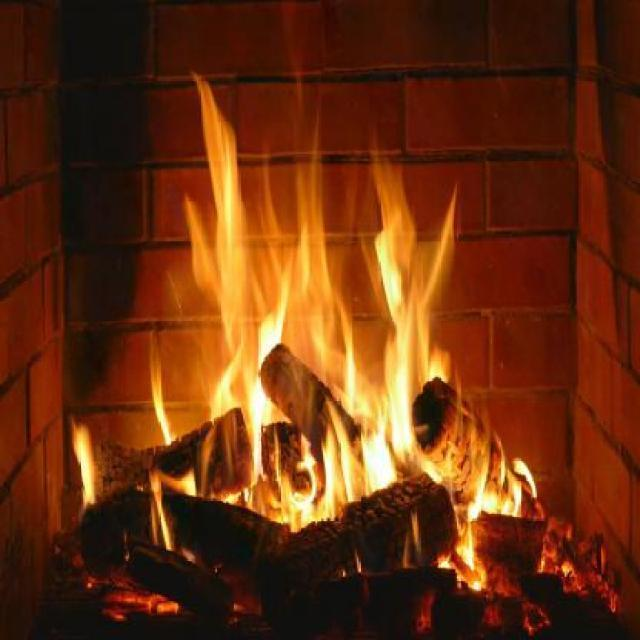Fire: (70, 72, 538, 552)
